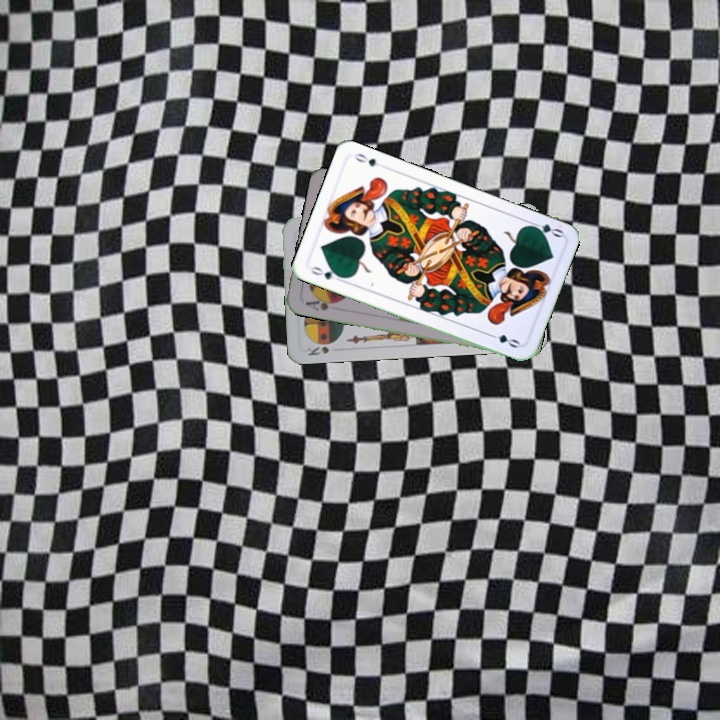GO: (524, 217, 565, 240), (307, 262, 346, 285)
SA: (301, 293, 341, 313)
SK: (302, 338, 340, 358)
